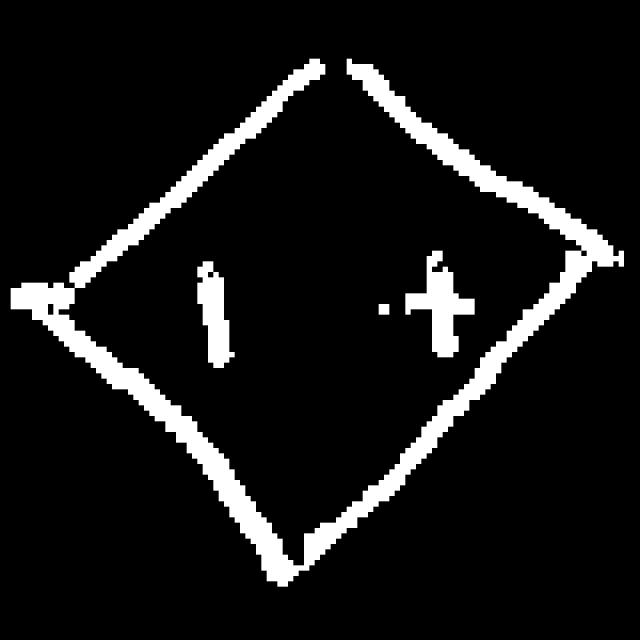dependant_voltage: (39, 39, 579, 587)
